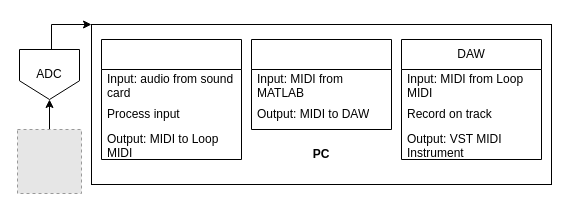
This 569x211 diagram has some shape labels left out. Grey dashed boxes stand in for pictures. Each missing label, with the box of its shape:
Loop MIDI: (250, 38, 392, 130)
MATLAB: (100, 38, 242, 160)
